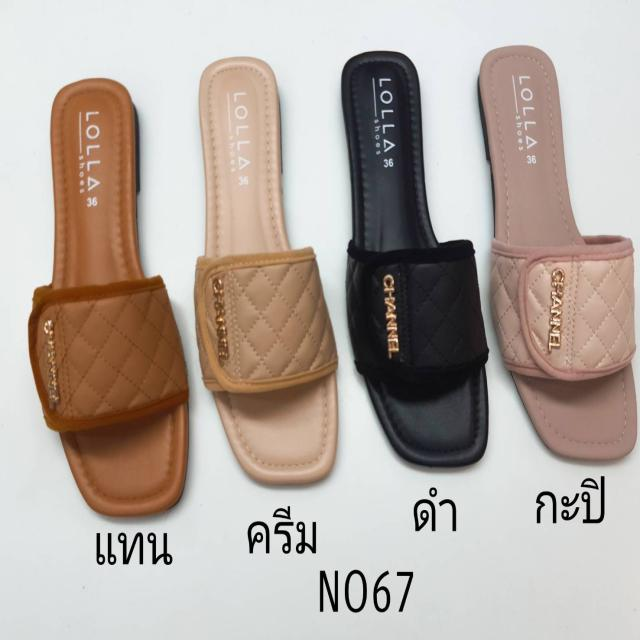black: (336, 43, 486, 470)
cream: (196, 52, 340, 476)
kapi: (479, 35, 640, 464)
tan: (48, 80, 189, 516)
